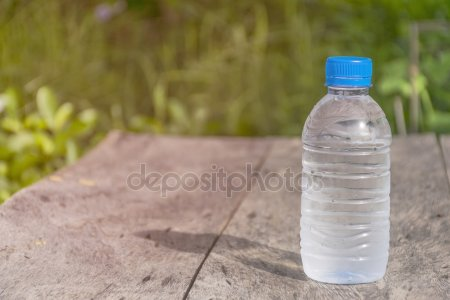bottle: (301, 55, 389, 284)
